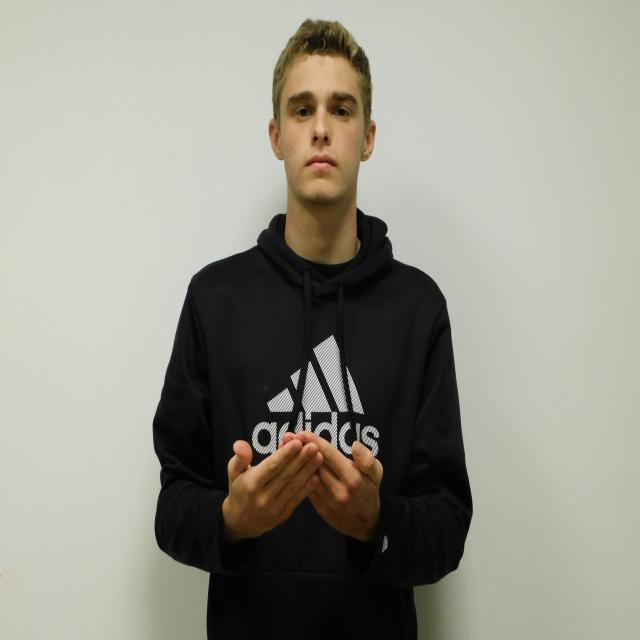good: (228, 431, 382, 539)
